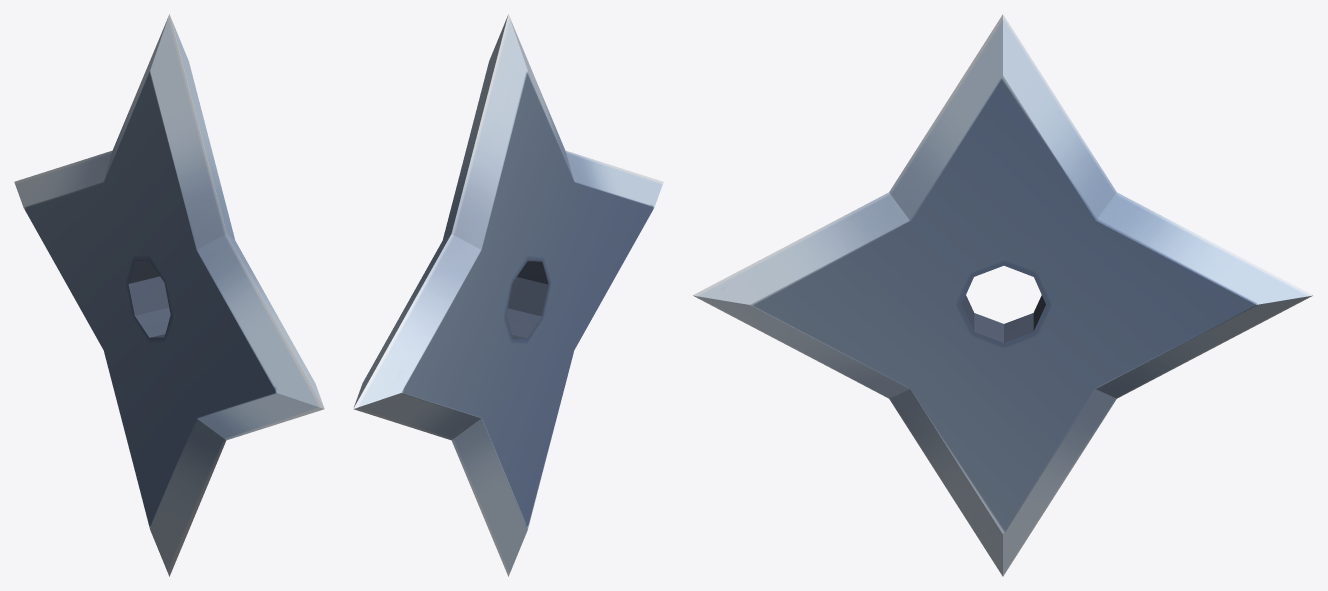
The model's file is Shuriken.fbx.
The picture shows the model from 3 angles, left to right: view 1: azimuth 30°, elevation 25°; view 2: azimuth 150°, elevation 25°; view 3: azimuth 270°, elevation 25°; orthographic projection.
Visible parts, largest first — view 1: ShurikenModel; view 2: ShurikenModel; view 3: ShurikenModel.
Part boxes in pixels (left/top/right/bottom): ShurikenModel: left=14, top=14, right=324, bottom=576; ShurikenModel: left=353, top=14, right=663, bottom=576; ShurikenModel: left=692, top=14, right=1313, bottom=576.
Bounding box in the file's own units: 5.34 × 74 × 74.
